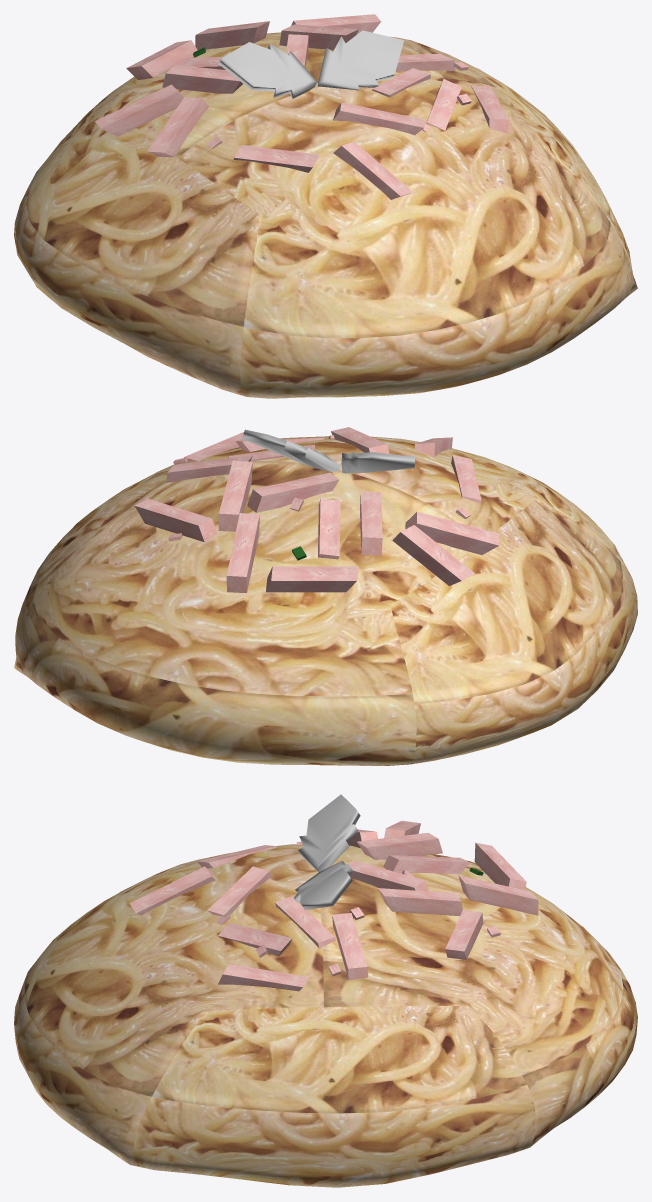
Rendered from Carbonara.fbx.
3 views of the same model, one above another, from view 1: azimuth 30°, elevation 25°; view 2: azimuth 150°, elevation 25°; view 3: azimuth 270°, elevation 25° (orthographic). The views are drawn at different scales.
Visible parts, largest first — view 1: pCube31; view 2: pCube31; view 3: pCube31.
Boxes of the visible parts, left/top/right/bottom form: pCube31: left=14, top=14, right=637, bottom=398; pCube31: left=14, top=427, right=637, bottom=765; pCube31: left=14, top=794, right=637, bottom=1187.
Size of the model in its own units: 5.43 by 2.48 by 5.78.
